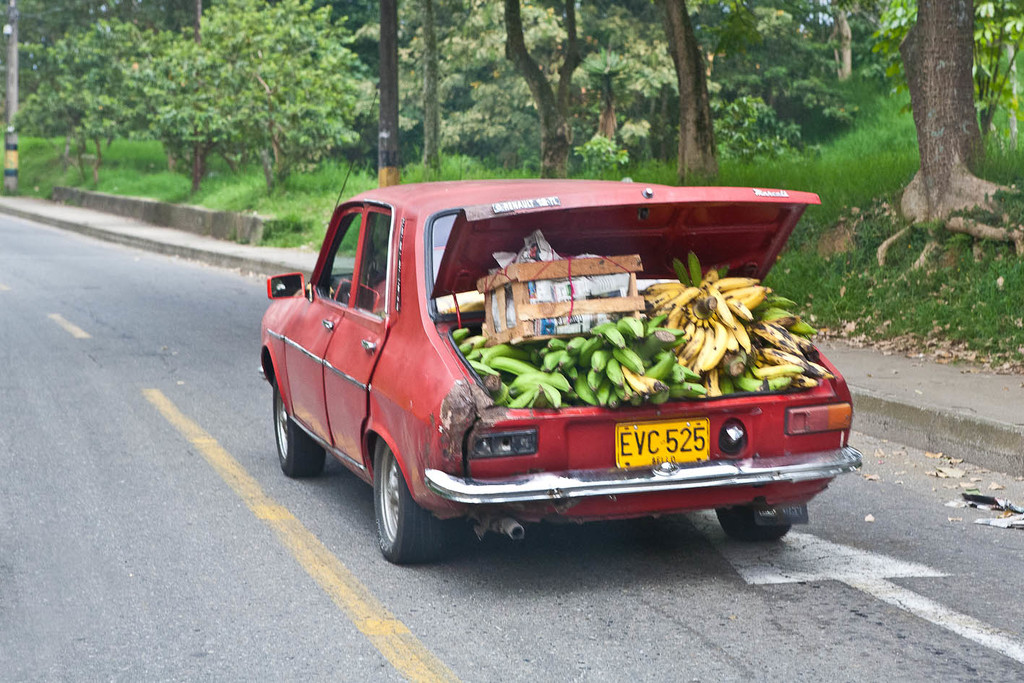cars: (256, 90, 858, 564)
